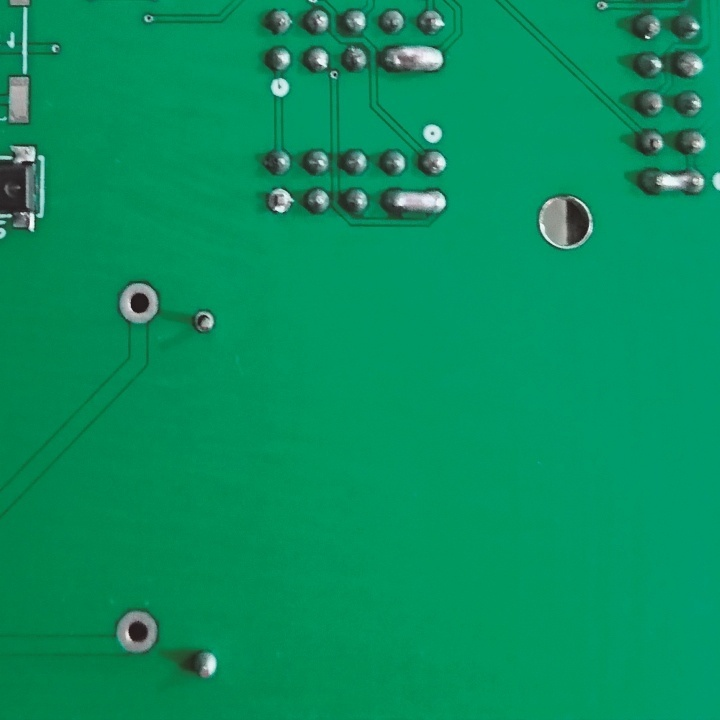F: (113, 607, 162, 658), (115, 280, 162, 324), (264, 186, 296, 218), (190, 308, 217, 334)
P: (633, 164, 709, 201), (377, 183, 449, 220), (379, 43, 446, 81)
